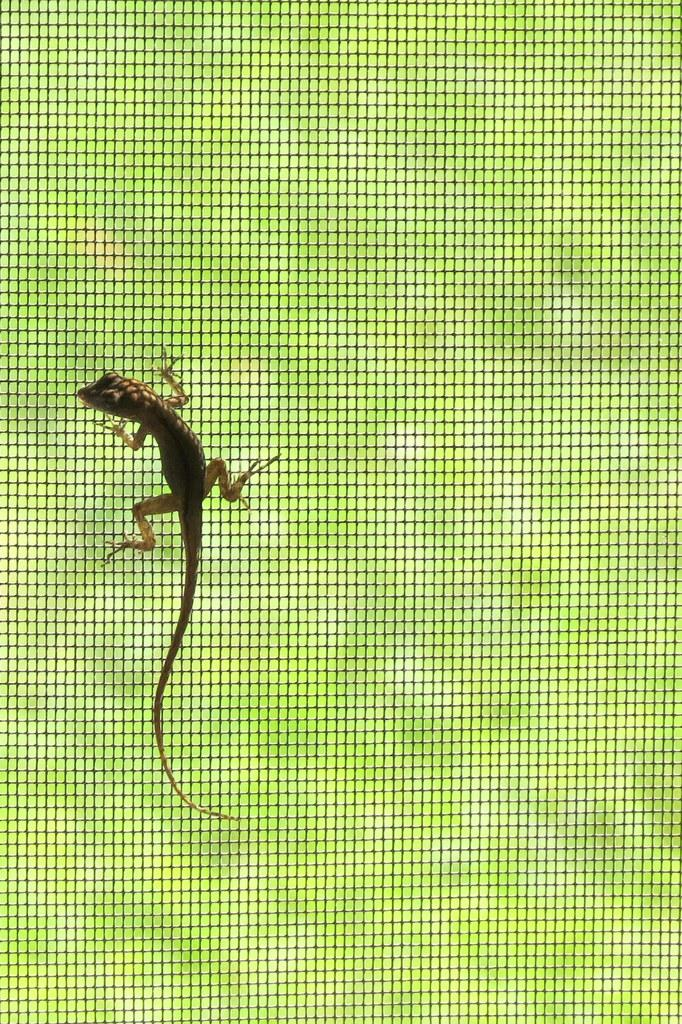lizard: (50, 352, 293, 818)
